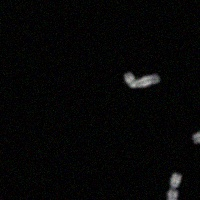chromosome: (122, 67, 162, 90), (165, 171, 182, 200), (191, 123, 200, 144)
